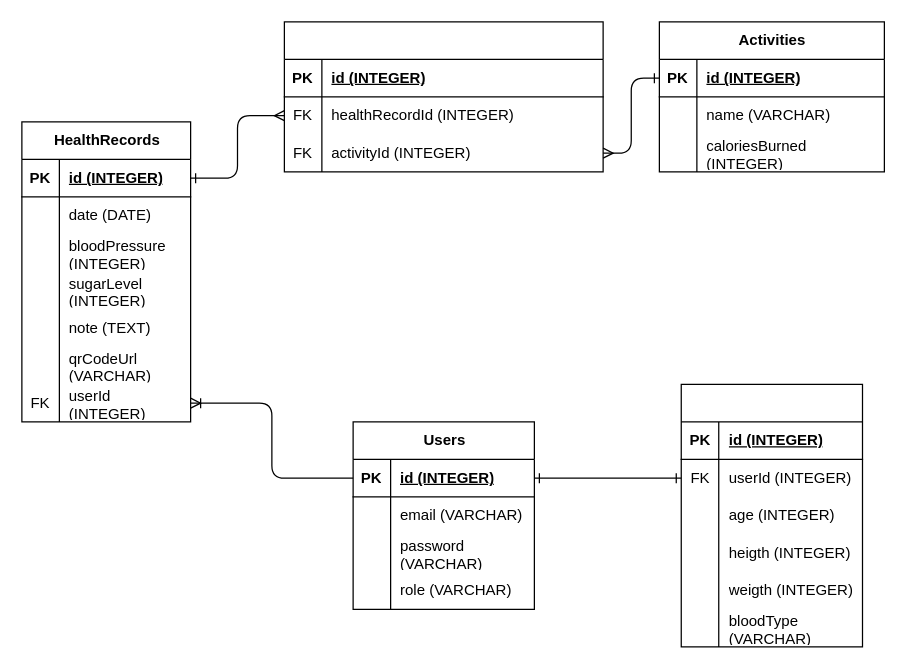
Some shapes in this 906 by 669 pixel diagram are drawn without their labels. Here are the shapes that lost their labels. From the top down, the box of each, then its label:
(283, 21, 603, 172): HealthRecordActivities
(680, 383, 862, 647): Profiles
